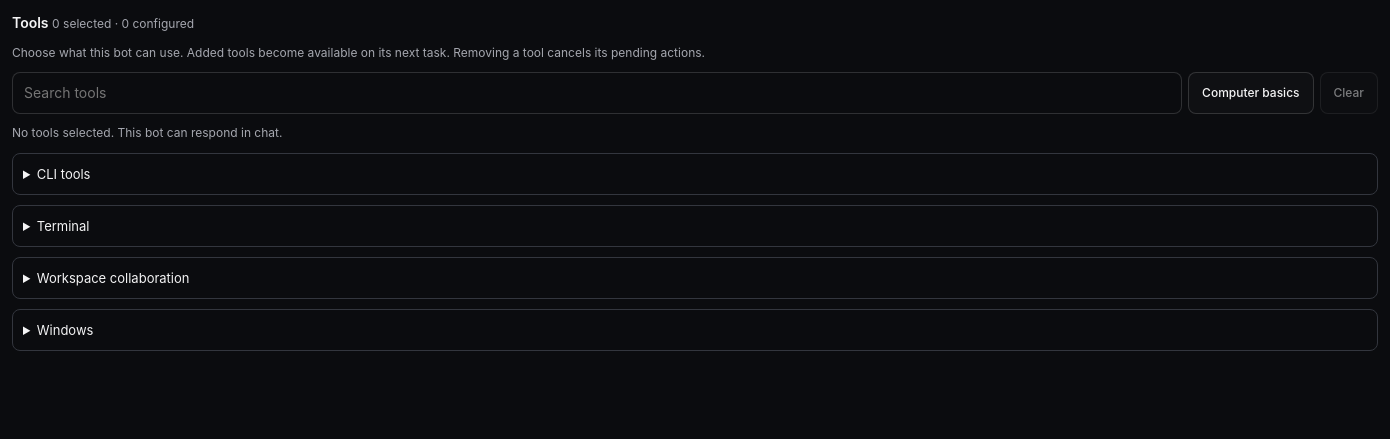
Test case: starts empty, offers compatible basics, and leaves collaboration optional
Expected: the heading "Terminal" is shown, [37,218,90,234]
Expected: the text "No tools selected. This bot can respond in chat." is shown, [12,125,282,140]
Click the button "Computer basics": (1251, 93) [1188,72,1314,114]
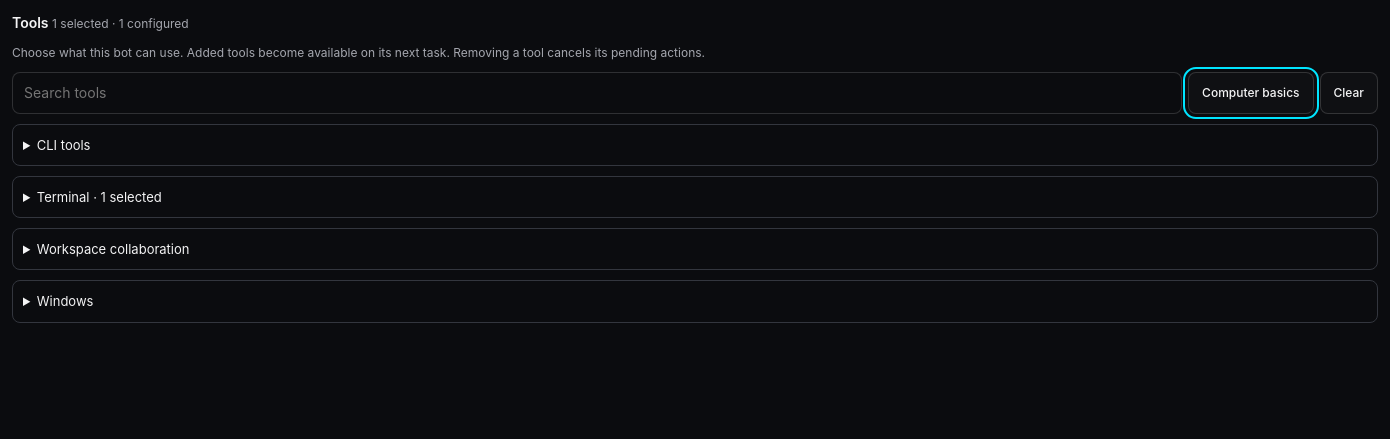
Now the text "1 selected · 1 configured" is shown, box [52,16,189,31]
Click the heading "Workspace collaboration": (113, 249) [37,241,190,257]
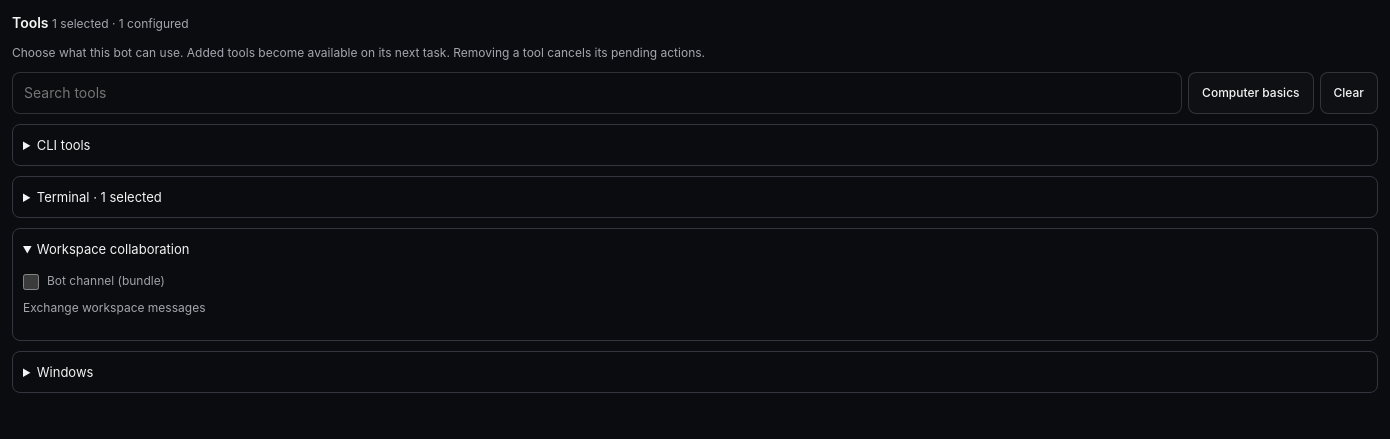
Now the checkbox labelled "Bot channel (bundle)" is not checked
Click the checkbox labelled "Bot channel (bundle)": (31, 282) [23,274,39,290]
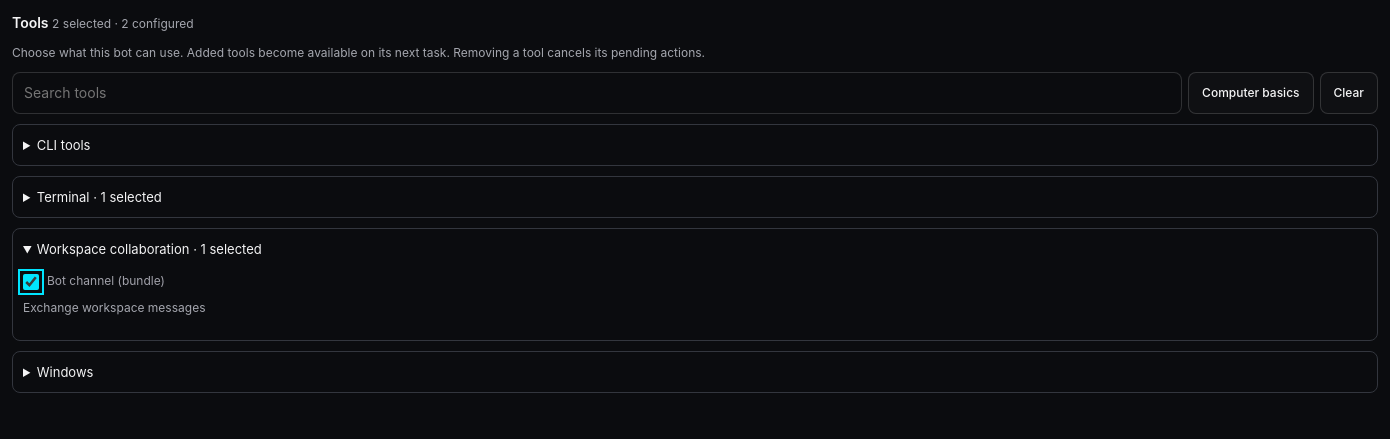
Click the button "Clear": (1349, 93) [1320,72,1378,114]
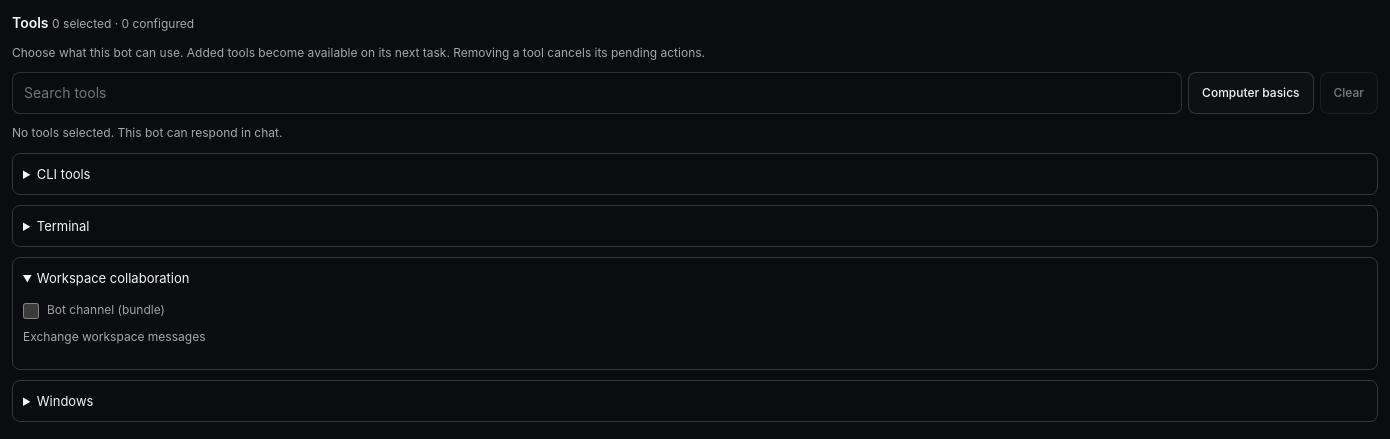
Now the text "No tools selected. This bot can respond in chat." is shown, box [12,125,282,140]
In the search field: (597, 93) [12,72,1182,114], type "Windows"
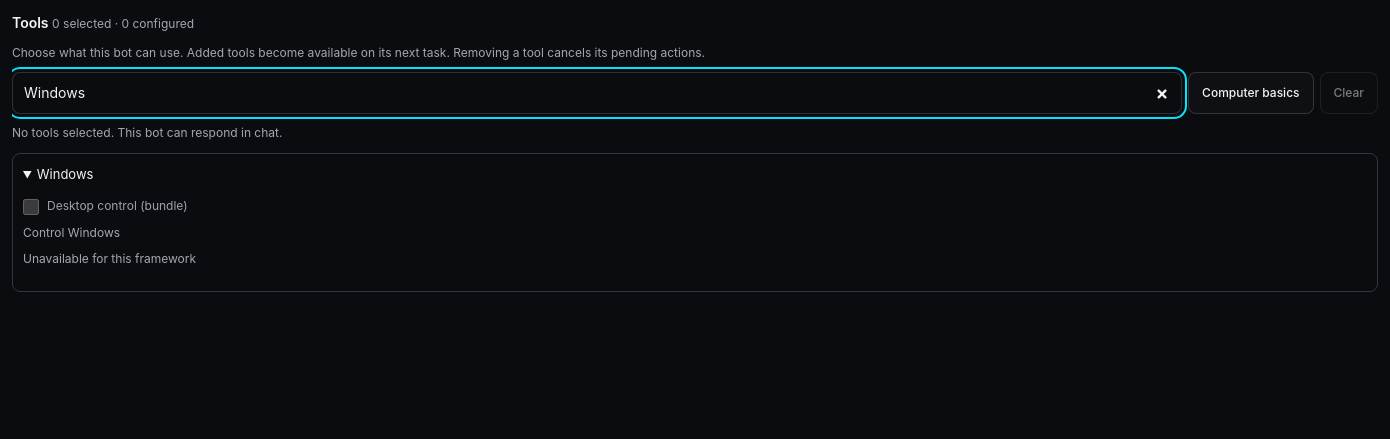
Now the checkbox labelled "Desktop control (bundle)" is disabled, box [23,199,39,215]
